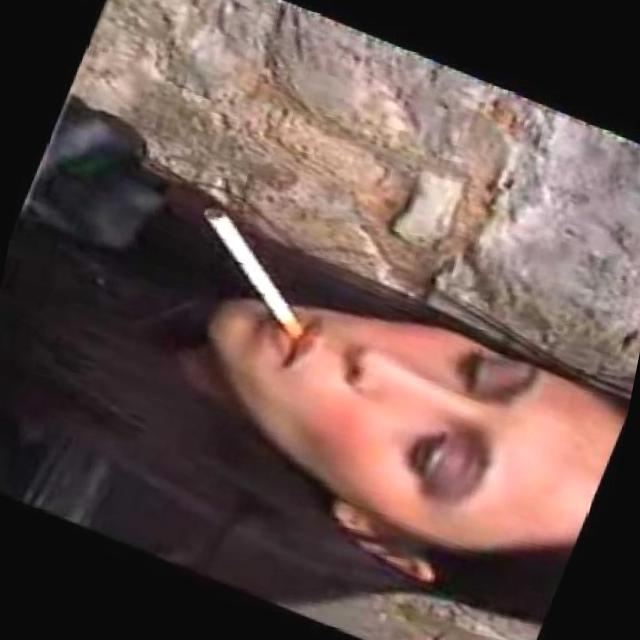smoke: (156, 194, 346, 352)
